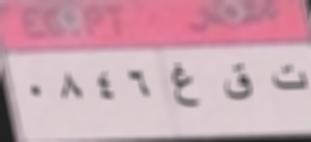0: (23, 75, 52, 107)
4: (97, 68, 118, 109)
6: (126, 66, 153, 108)
8: (56, 70, 88, 108)
ghayn: (170, 59, 201, 113)
qaaf: (218, 58, 256, 108)
taa: (270, 61, 308, 96)
